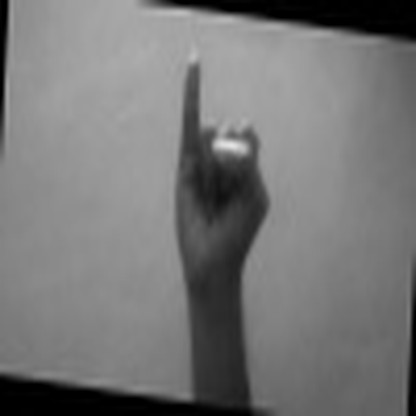i: (154, 38, 287, 273)
